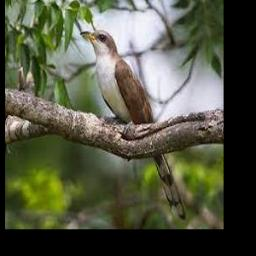Cuckoo: (79, 29, 186, 220)
